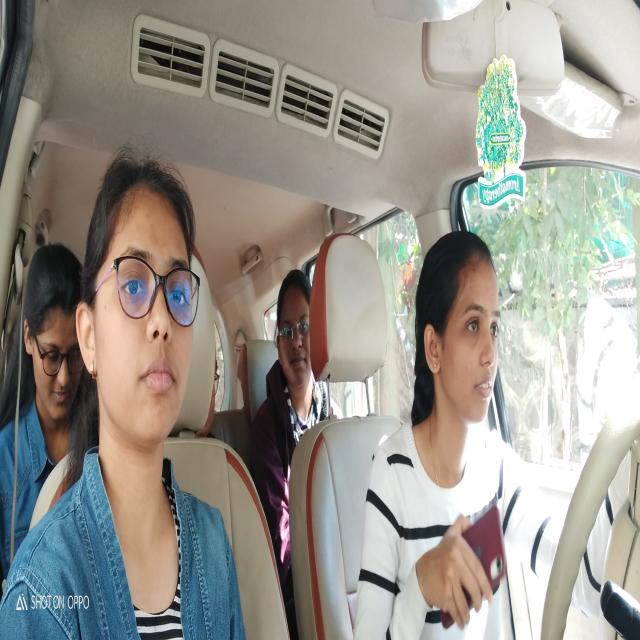mobile: (433, 501, 518, 631)
person: (75, 134, 205, 472), (411, 215, 514, 462), (18, 234, 88, 435), (267, 265, 326, 423)
